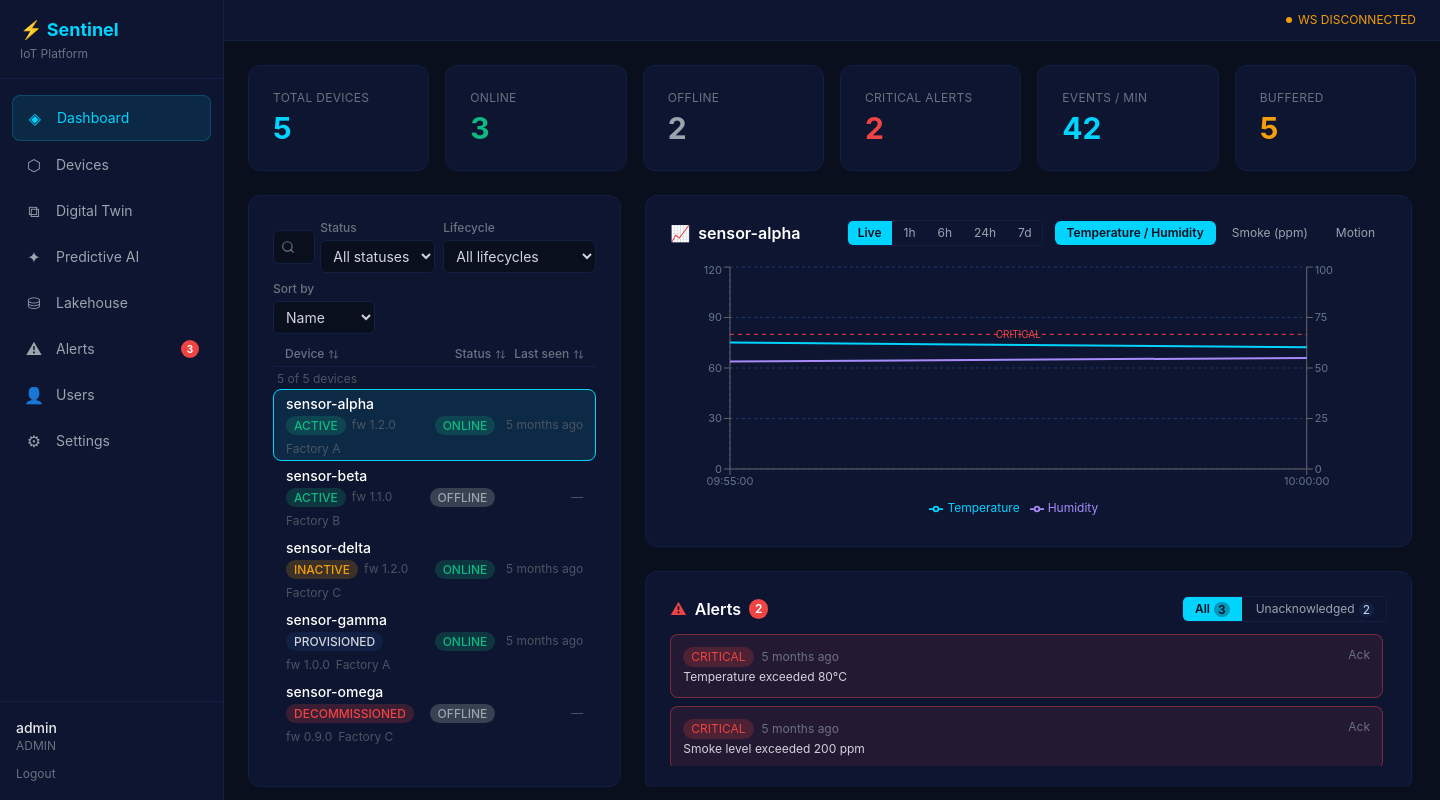
Device Filters › lifecycle filter shows only ACTIVE devices
The width and height of the screenshot is (1440, 800).
Select "Active" in the dropdown with id "filter-lifecycle". click: point(520, 257)
box: [443, 240, 596, 273]
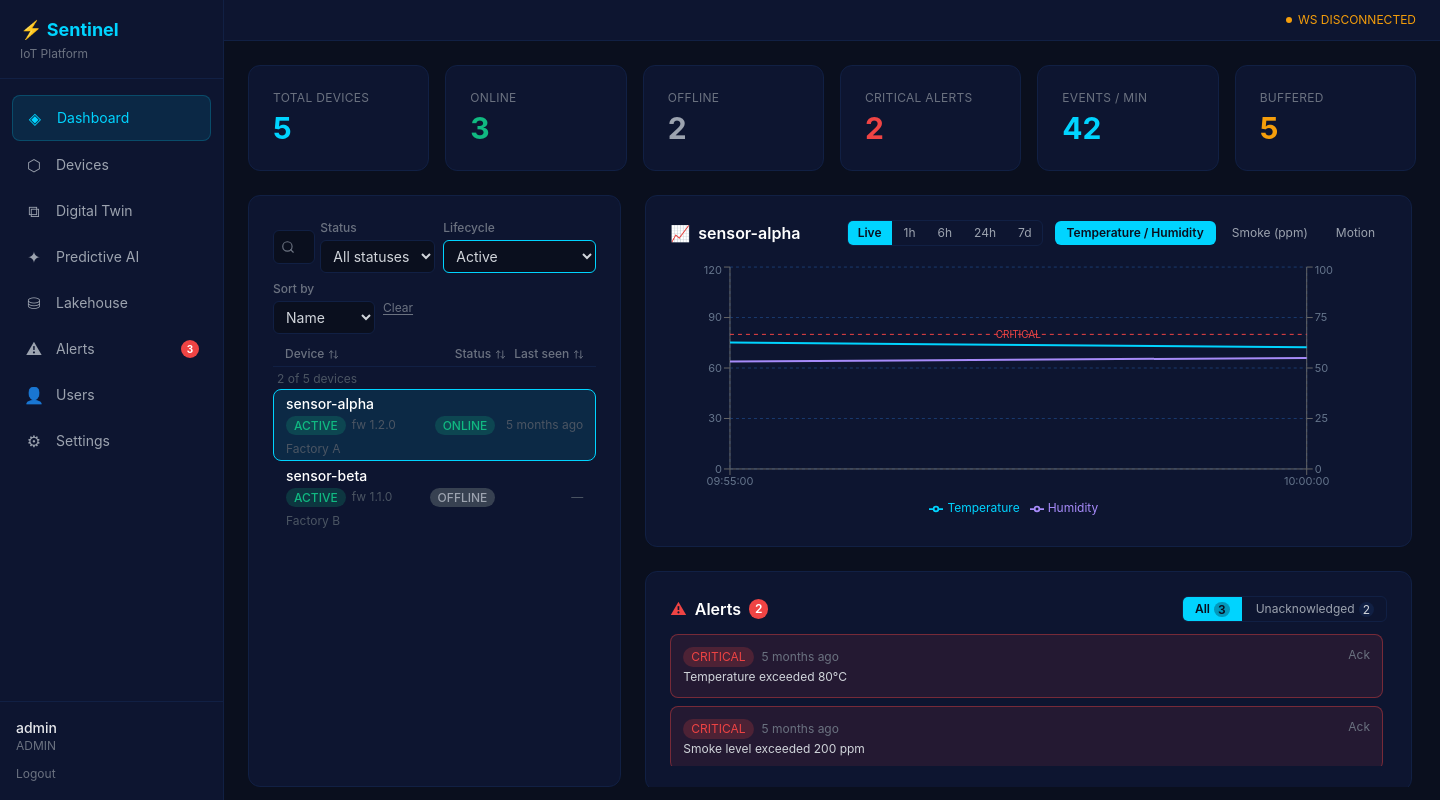
Expected: the text "sensor-alpha" is shown, [286, 394, 374, 412]
Result: the text "sensor-gamma" is gone
Result: the text "sensor-delta" is gone
